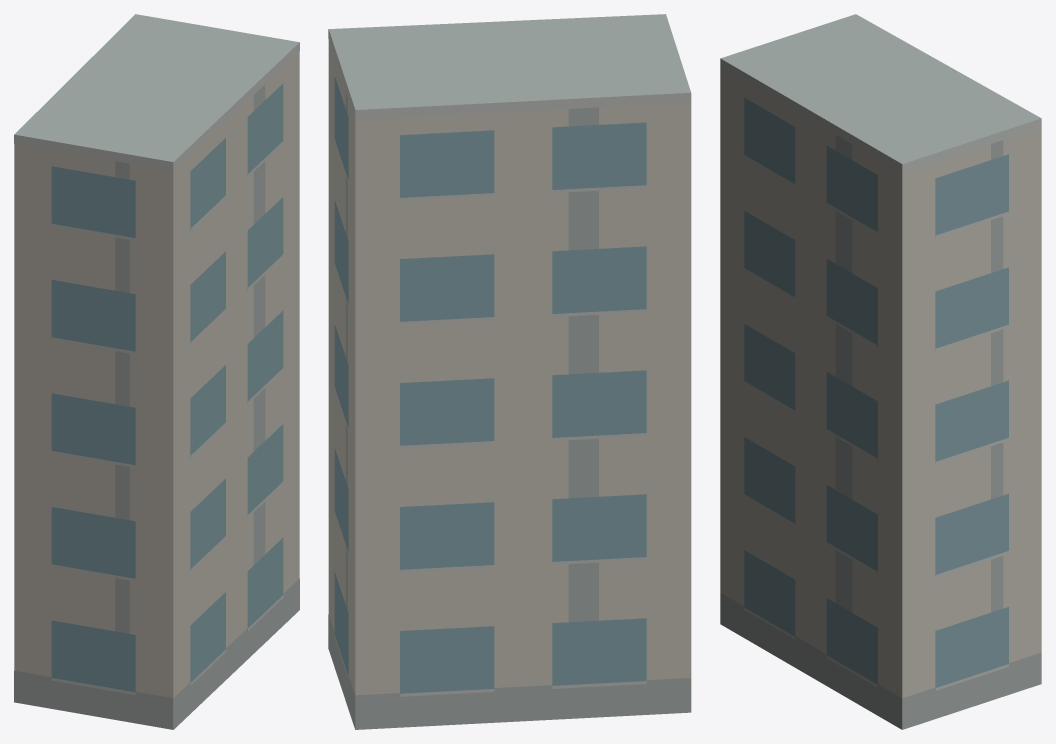
File: survey-upis-32578048.glb
3 views of the same model, side by side, from view 1: azimuth 30°, elevation 25°; view 2: azimuth 150°, elevation 25°; view 3: azimuth 270°, elevation 25° (orthographic). The views are drawn at different scales.
Visible parts, largest first — view 1: survey-upis-32578048.tmp; view 2: survey-upis-32578048.tmp; view 3: survey-upis-32578048.tmp.
Part boxes in pixels (x1,y1,x2,y2): survey-upis-32578048.tmp: (14, 14, 299, 729); survey-upis-32578048.tmp: (328, 14, 691, 729); survey-upis-32578048.tmp: (720, 14, 1041, 729).
Size of the model in its own units: 8.69 by 15.25 by 7.86.
